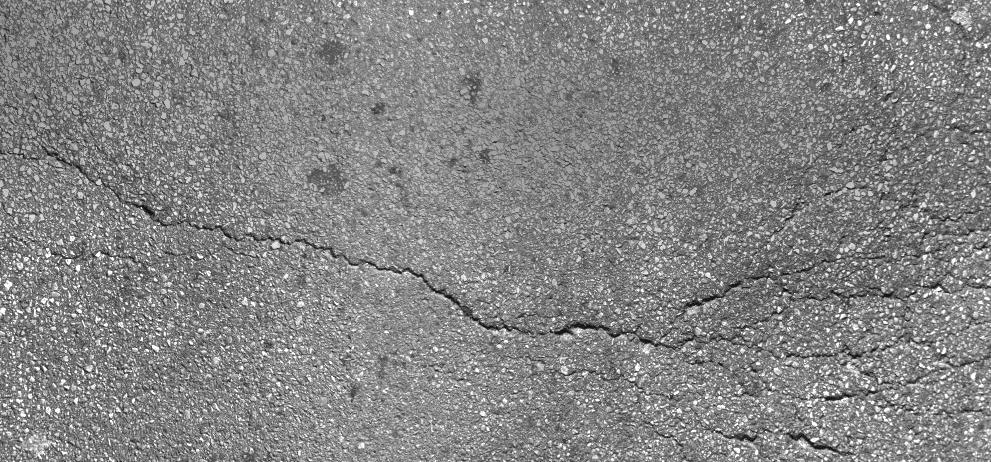crack: (9, 64, 972, 418)
